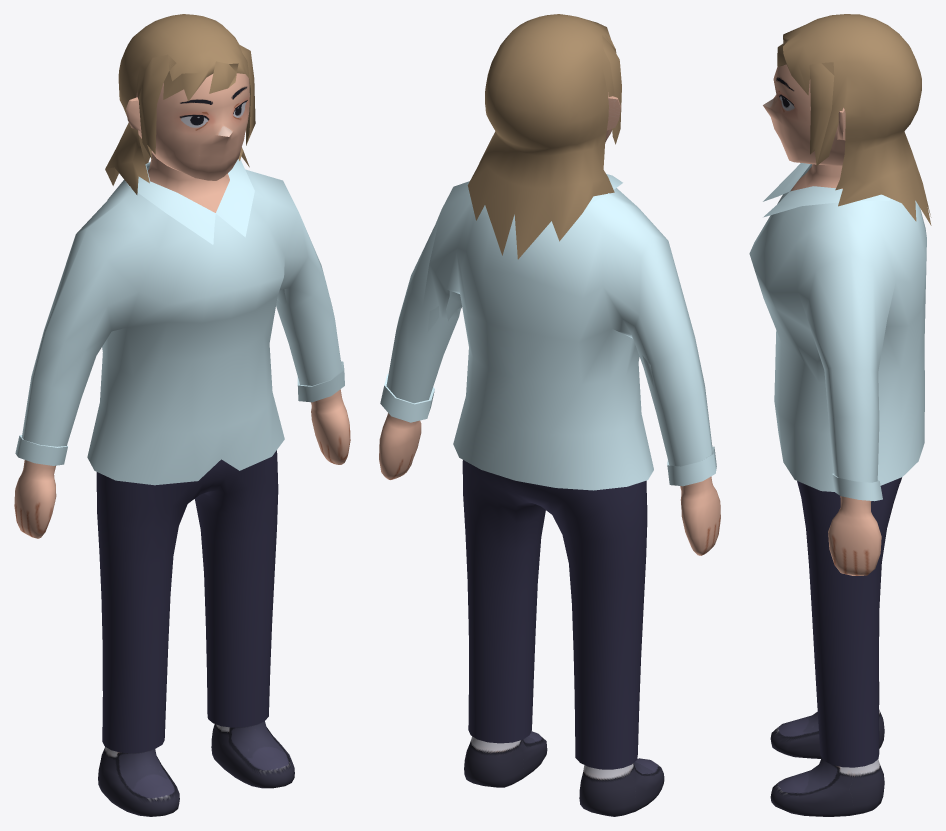
Rendered from coworker 2.fbx.
3 renders of one model, left to right at view 1: azimuth 30°, elevation 25°; view 2: azimuth 150°, elevation 25°; view 3: azimuth 270°, elevation 25°, orthographic.
Parts seen in each view (by area): view 1: Roundcube.002, Roundcube.003, Roundcube.001, Roundcube.004, Roundcube; view 2: Roundcube.002, Roundcube.003, Roundcube.004, Roundcube.001; view 3: Roundcube.002, Roundcube.004, Roundcube.003, Roundcube.001, Roundcube.
Boxes of the visible parts, x1,y1,x2,y2 form: Roundcube.002: (15, 159, 344, 485); Roundcube.003: (96, 450, 278, 753); Roundcube.001: (14, 152, 350, 816); Roundcube.004: (105, 14, 255, 194); Roundcube: (126, 73, 249, 180); Roundcube.002: (380, 174, 716, 490); Roundcube.003: (462, 460, 647, 769); Roundcube.004: (467, 14, 621, 259); Roundcube.001: (379, 291, 720, 816); Roundcube.002: (749, 163, 926, 501); Roundcube.004: (777, 14, 931, 225); Roundcube.003: (797, 477, 901, 767); Roundcube.001: (770, 164, 884, 816); Roundcube: (763, 64, 845, 165).
Size of the model in its own units: 249 by 552 by 120.
Materials: 4 (1 with a texture image).
